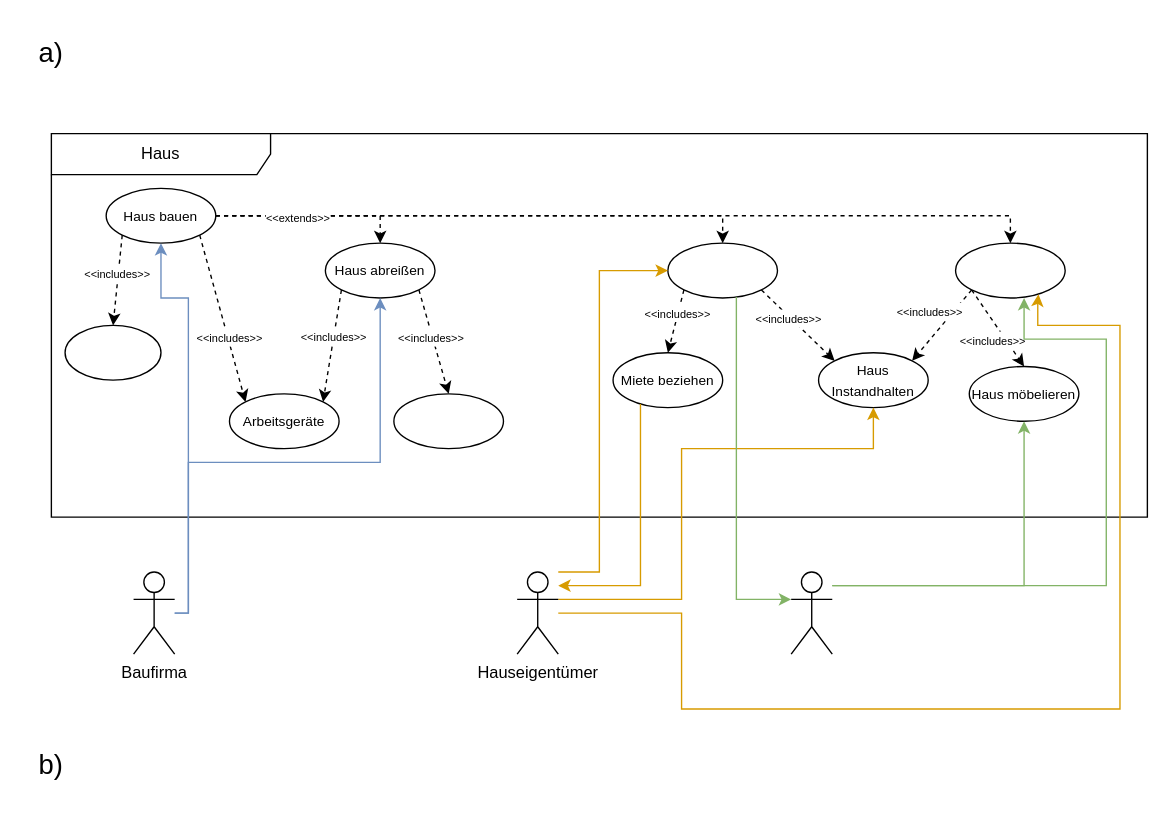
This 1171x814 diagram has some shape labels left out. The centre of each missing label's shape, as x and y in pixels:
Baustoffe beschaffen: pixel 112 352
Baustoffe entsorgen: pixel 448 421
Haus bewohnen: pixel 1009 270
Haus vermieten: pixel 722 270
Mieter: pixel 811 612
